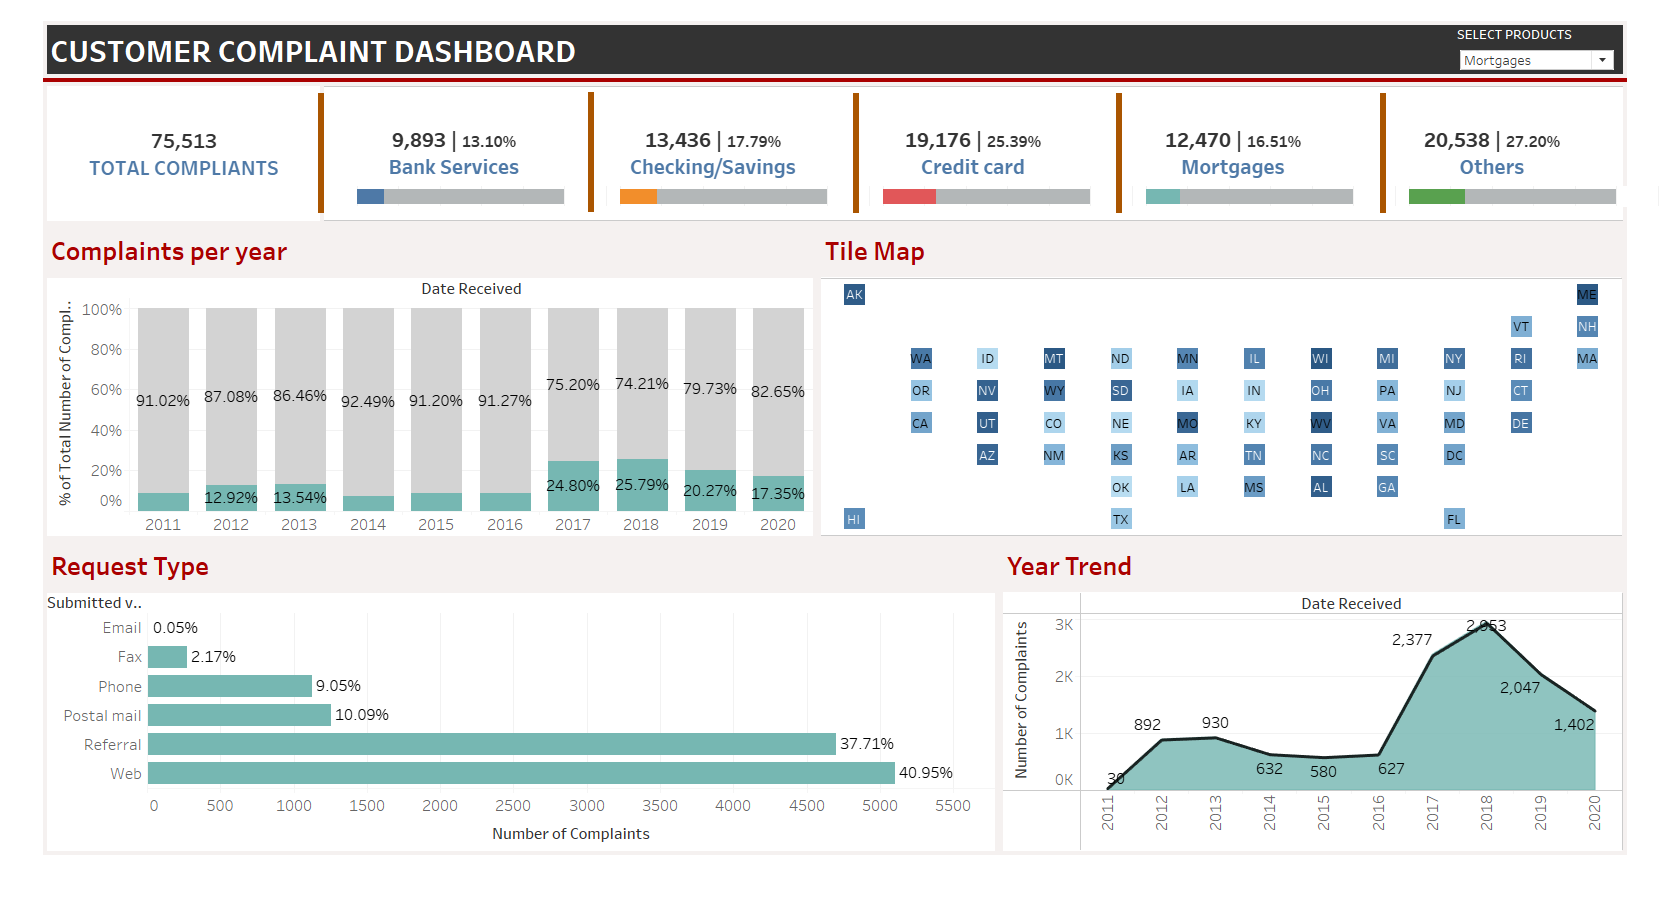

What the dashboard file says about the page in this screenshot:
{"tool":"tableau","page":{"name":"Dashboard 1","canvas":[1600,850],"ordinal":0},"visuals":[{"type":"title","box":[8,8,1584,57]},{"type":"parameter","param":"[Parameters].[Parameter 1]","box":[1422,12,160,48]},{"type":"blank","box":[8,65,1584,4]},{"type":"worksheet","title":"Total KPI","mark":"Automatic","box":[8,69,280.9,143]},{"type":"worksheet","title":"KPI","mark":"Automatic","box":[288.9,69,1303.1,143]},{"type":"blank","box":[553,79,6,120]},{"type":"blank","box":[283,80,6,120]},{"type":"blank","box":[818,80,6,120]},{"type":"blank","box":[1081,80,6,120]},{"type":"blank","box":[1345,80,6,120]},{"type":"worksheet","title":"Complaints per year","mark":"Bar","cols":["Date Received"],"box":[8,212,774,315]},{"type":"worksheet","title":"Tile Map","mark":"Square","rows":["Row"],"cols":["Space"],"box":[782,212,809.9,315]},{"type":"worksheet","title":"Request Type","mark":"Automatic","rows":["Submitted via"],"cols":["Number of Complaints"],"box":[8,527,956,315]},{"type":"worksheet","title":"Year Trend","mark":"Area","rows":["Number of Complaints","Number of Complaints"],"cols":["Date Received"],"box":[964,527,628,315]}]}

Visuals, with their boxes in screenshot pixels (x1, y1, x2, y2), scaled from the page's 1600x850 canvas onto the 1662x897 screenshot:
title: 8:8:1654:69
parameter: 1477:13:1643:63
blank: 8:69:1654:73
"Total KPI" worksheet: 8:73:300:224
"KPI" worksheet: 300:73:1654:224
blank: 574:83:581:210
blank: 294:84:300:211
blank: 850:84:856:211
blank: 1123:84:1129:211
blank: 1397:84:1403:211
"Complaints per year" worksheet (Bar marks): 8:224:812:556
"Tile Map" worksheet (Square marks): 812:224:1654:556
"Request Type" worksheet: 8:556:1001:889
"Year Trend" worksheet (Area marks): 1001:556:1654:889
